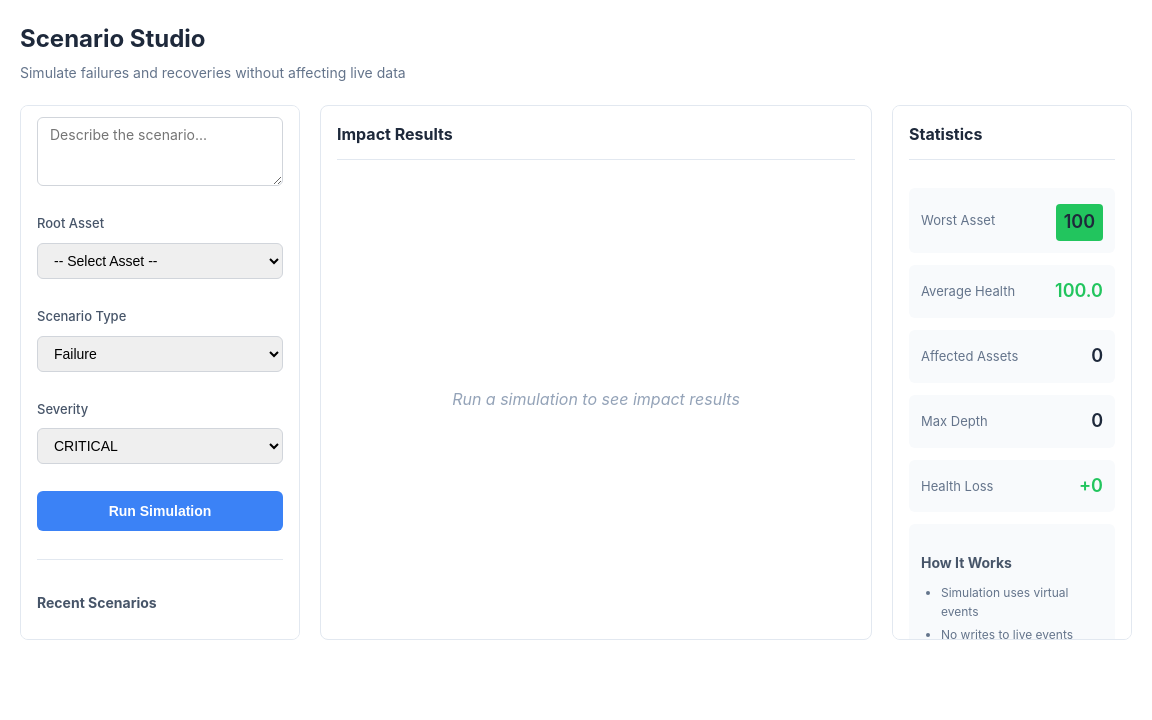
Test: Builder Functionality › shows error when name is empty
(page scrolled)
Step 1. Click the button "Run Simulation" → (160, 511), box [37,491,283,531]
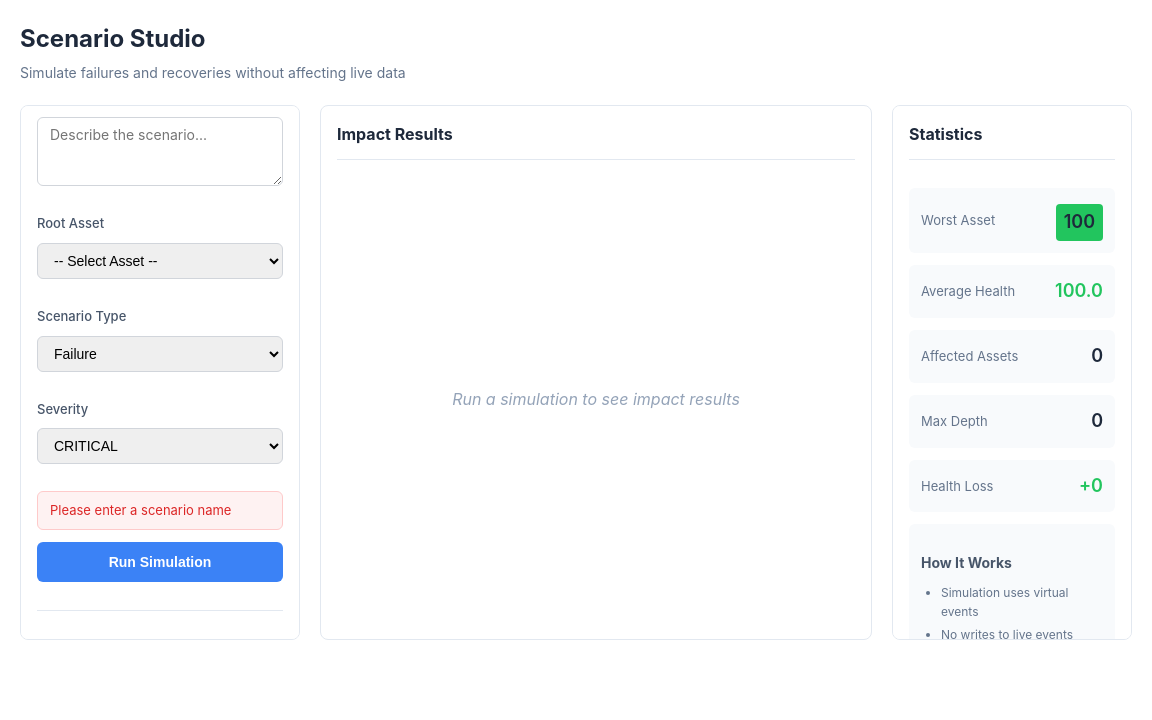
Now the text "Please enter a scenario name" is shown, box [37,491,283,530]
